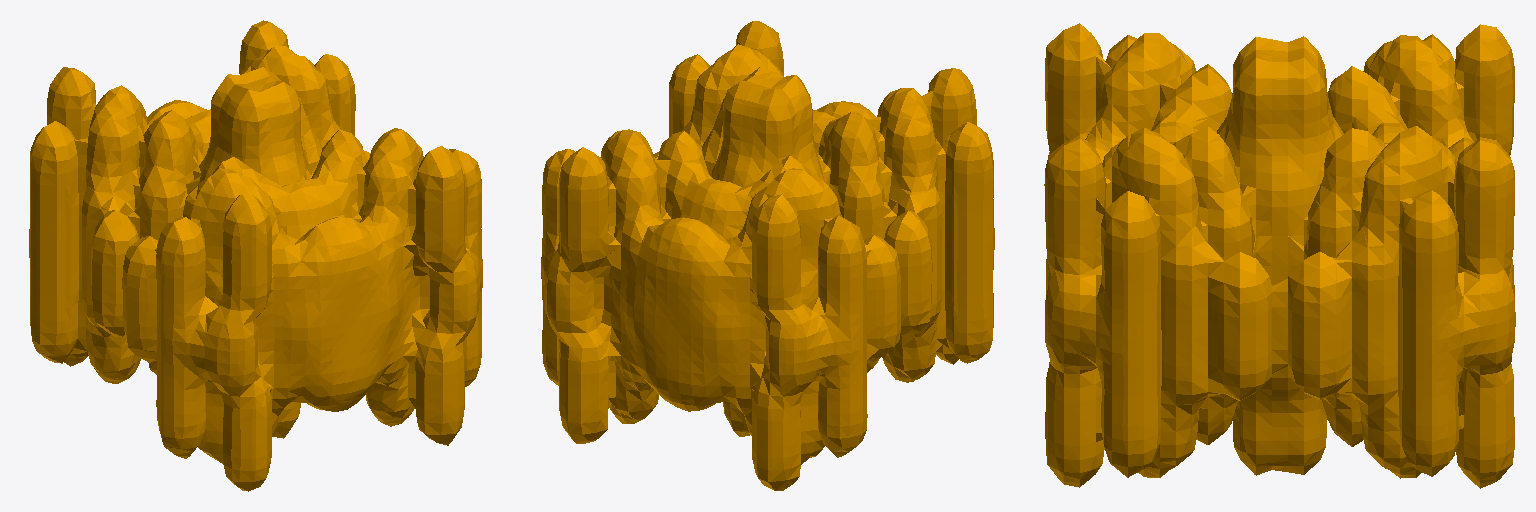
robot.urdf — N21_0:
<?xml version="1.0"?>
<robot name="N21_0">
  <link name="base_link">
    <visual>
      <geometry>
        <mesh filename="../../../../meshes/egad/train/N21_0.obj" />
      </geometry>
    </visual>
  </link>
</robot>

--- Render facts (derived) ---
3 views of the same robot in one strip: view 1: azimuth 30°, elevation 25°; view 2: azimuth 150°, elevation 25°; view 3: azimuth 270°, elevation 25° (orthographic).
Model N21_0 with 1 links and 0 joints (none), rooted at base_link, posed all joints at 0.
Visible links, largest first — view 1: base_link; view 2: base_link; view 3: base_link.
Link boxes in pixels (box(x1,y1,x2,y2)): base_link: box(29, 20, 482, 491); base_link: box(541, 21, 994, 490); base_link: box(1044, 23, 1515, 488).
Size in the robot's own frame: 0.06 by 0.0652 by 0.064 metres.
Meshes: 1 distinct files referenced, 1 mesh visuals loaded (1 OBJ).